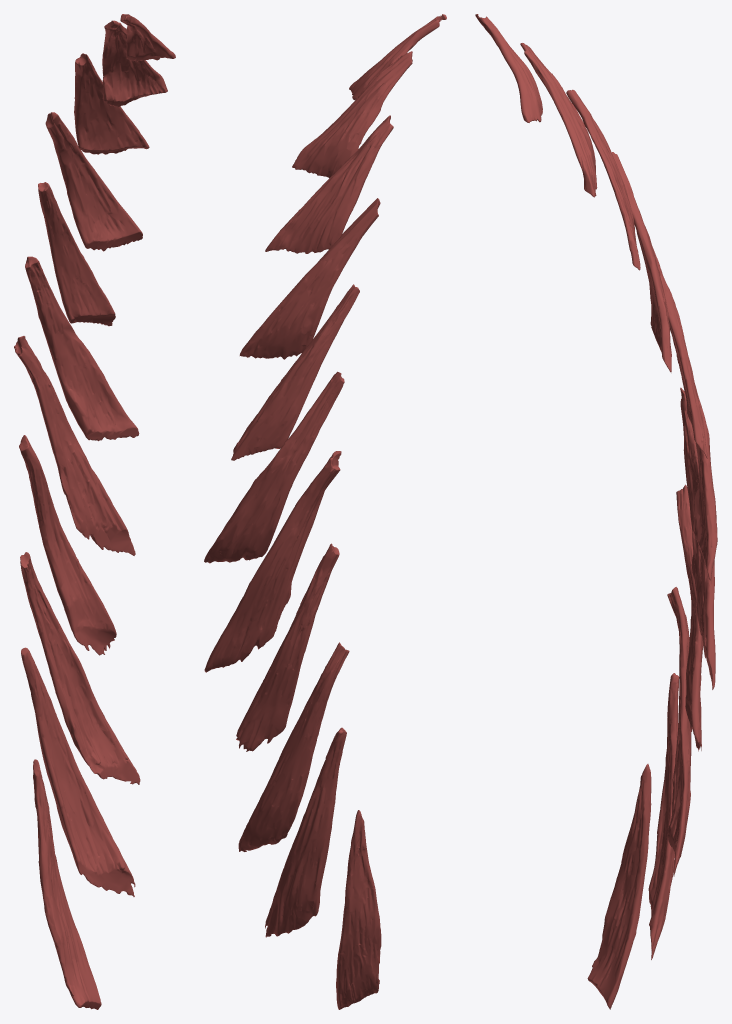
File: FMA74076.glb
The picture shows the model from 3 angles, left to right: view 1: azimuth 30°, elevation 25°; view 2: azimuth 150°, elevation 25°; view 3: azimuth 270°, elevation 25°; orthographic projection. The views are drawn at different scales.
Parts seen in each view (by area): view 1: FMA74076; view 2: FMA74076; view 3: FMA74076.
Boxes of the visible parts, x1,y1,x2,y2 form: FMA74076: [14, 14, 175, 1009]; FMA74076: [204, 14, 446, 1009]; FMA74076: [475, 14, 717, 1009].
Bounding box in the file's own units: 0.0457 × 0.3198 × 0.0719.
